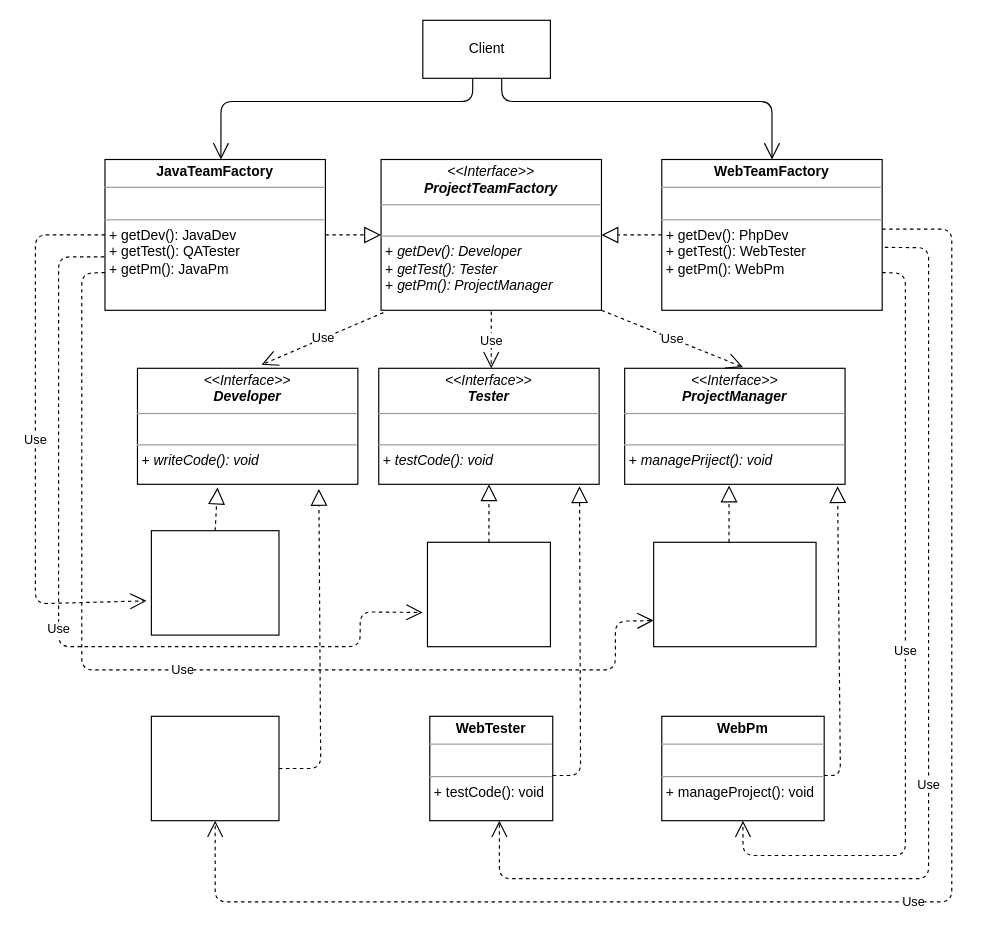
This 988x938 diagram has some shape labels left out. The shapes that lost their labels are listed below. From the top down, each one's centre as x and y in pixels, then its label:
At [214,582]: "JavaDev + writeCode(): void".
At [488,594]: "QATester + testCode(): void".
At [734,594]: "JavaPm + manageProject(): void".
At [214,768]: "PhpDev + writeCode(): void".
